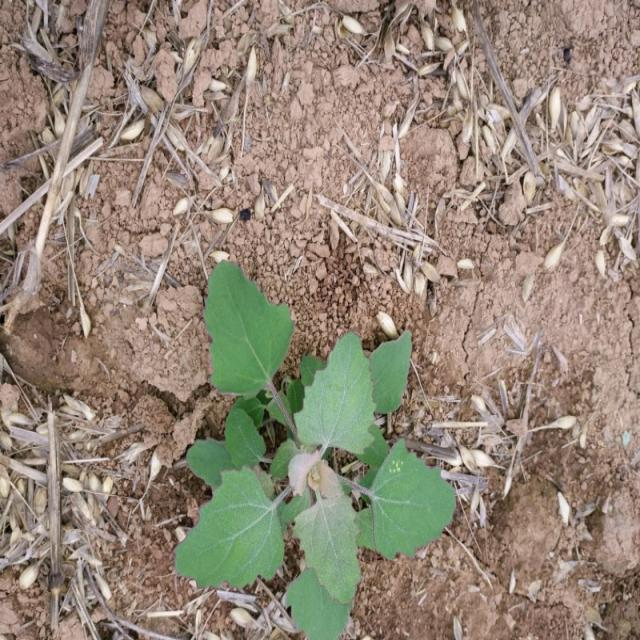ca: (176, 249, 455, 640)
